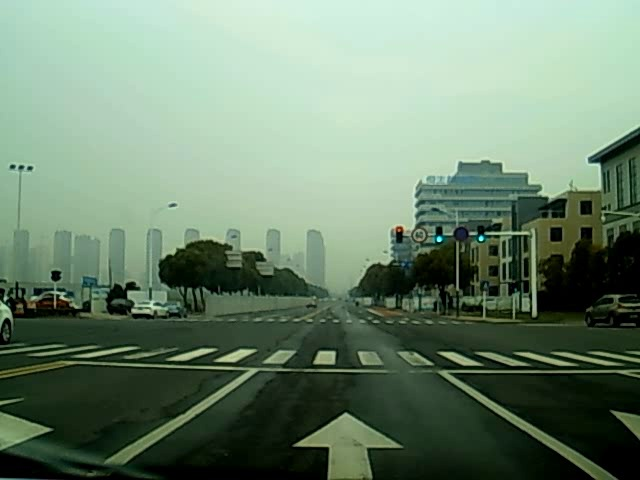Traffic_Light_go: (435, 226, 443, 247), (478, 226, 485, 245)
Traffic_Light_stop: (394, 226, 403, 248)
